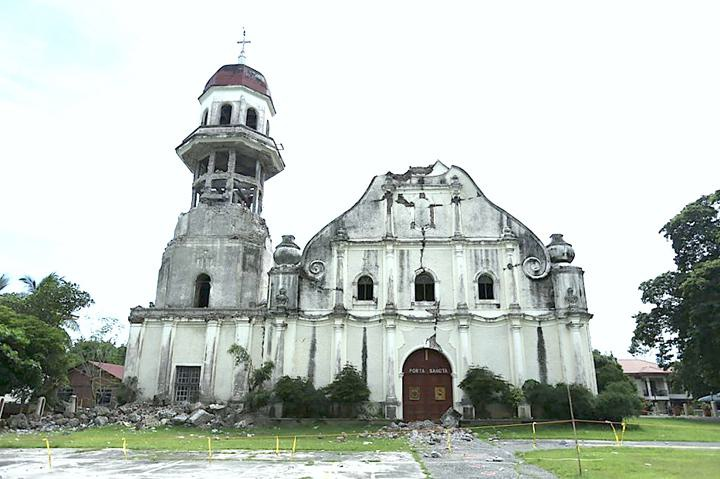crack: (427, 306, 444, 346), (375, 190, 397, 219), (418, 227, 429, 266)
